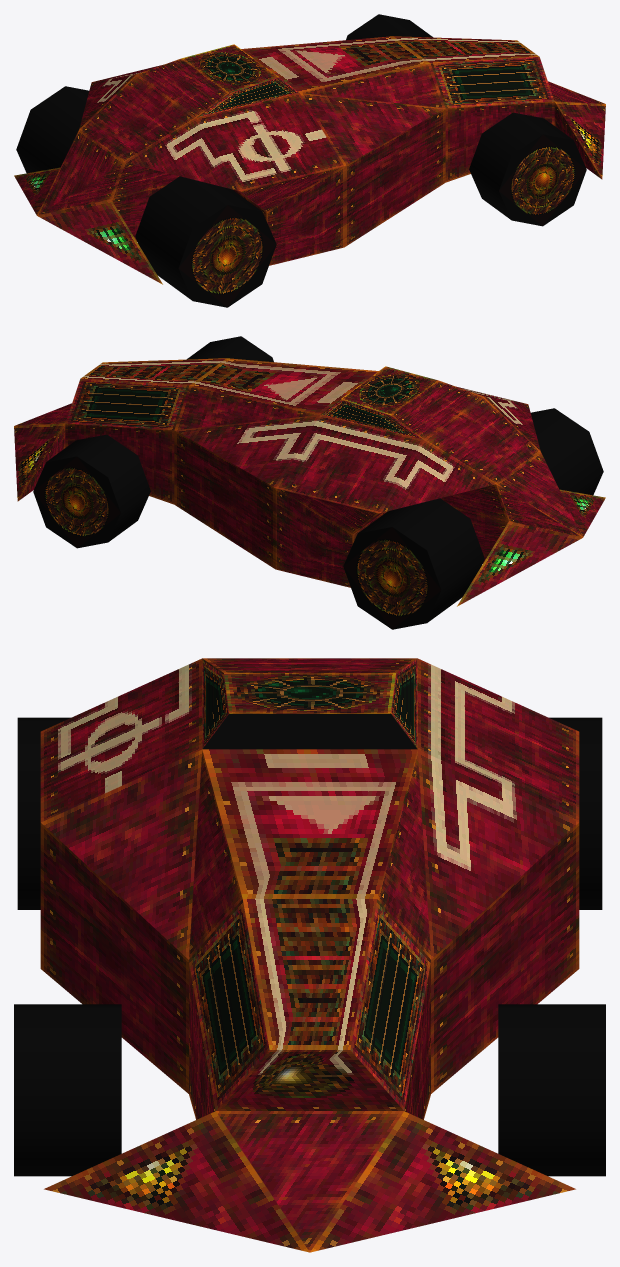
Rendered from Shivan.glb.
The picture shows the model from 3 angles, top to bottom: view 1: azimuth 30°, elevation 25°; view 2: azimuth 150°, elevation 25°; view 3: azimuth 270°, elevation 25°; orthographic projection. The views are drawn at different scales.
Visible parts, largest first — view 1: ChassisSR0, WheelRR, WheelFR, WheelRL, WheelFL; view 2: ChassisSR0, WheelRL, WheelFL, WheelRR, WheelFR; view 3: ChassisSR0, WheelFR, WheelFL, WheelRR, WheelRL.
Part boxes in pixels (x1,y1,x2,y2): ChassisSR0: (14,36,605,284); WheelRR: (135,176,276,307); WheelFR: (469,112,586,226); WheelRL: (16,86,89,173); WheelFL: (346,14,433,40); ChassisSR0: (14,358,605,606); WheelRL: (343,498,484,629); WheelFL: (33,434,150,548); WheelRR: (530,408,603,495); WheelFR: (186,336,273,362); ChassisSR0: (40,658,579,1252); WheelFR: (14,1004,121,1176); WheelFL: (498,1004,605,1176); WheelRR: (17,717,70,909); WheelRL: (549,717,602,909).
Size of the model in its own units: 7.31 by 1.97 by 3.65.
3 materials, 2 textured.
